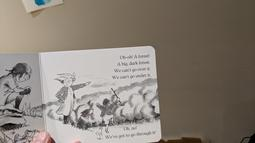text block: (110, 52, 154, 82), (104, 126, 158, 139)
